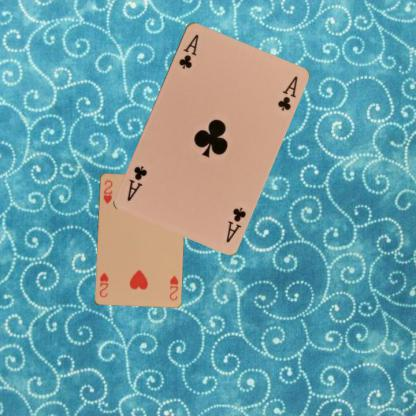2h: (167, 272, 179, 302), (100, 178, 113, 204)
Ac: (223, 204, 247, 244), (176, 31, 200, 70)
